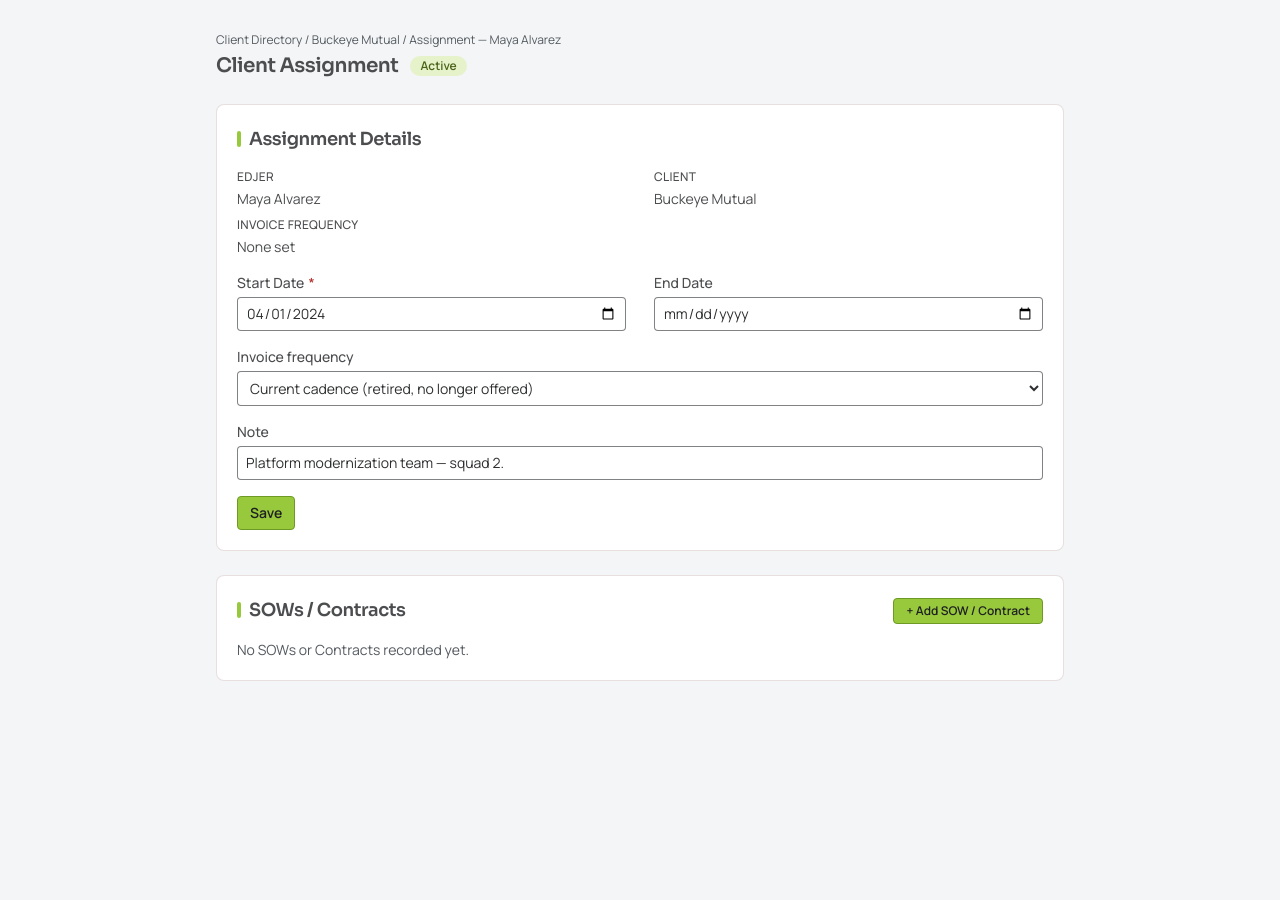
Test case: AssignmentDetailPage › SOWs / Contracts (US3, #66) › closes the modal after a successful create
Click the button "+ Add SOW / Contract" at point(968, 610), box [894,598,1043,624]
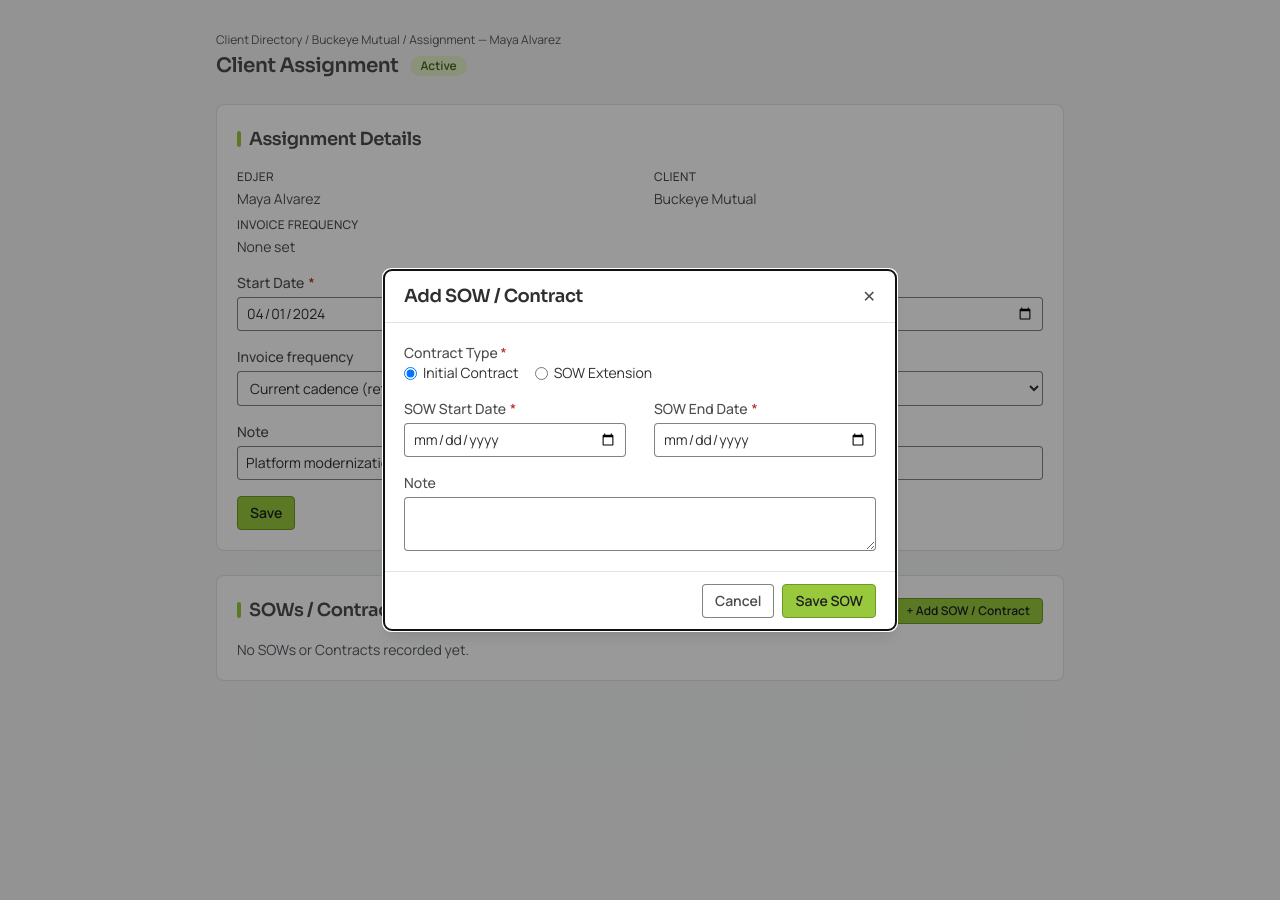
Click the radio button labelled "Initial Contract" at point(410, 373), box [404,366,417,380]
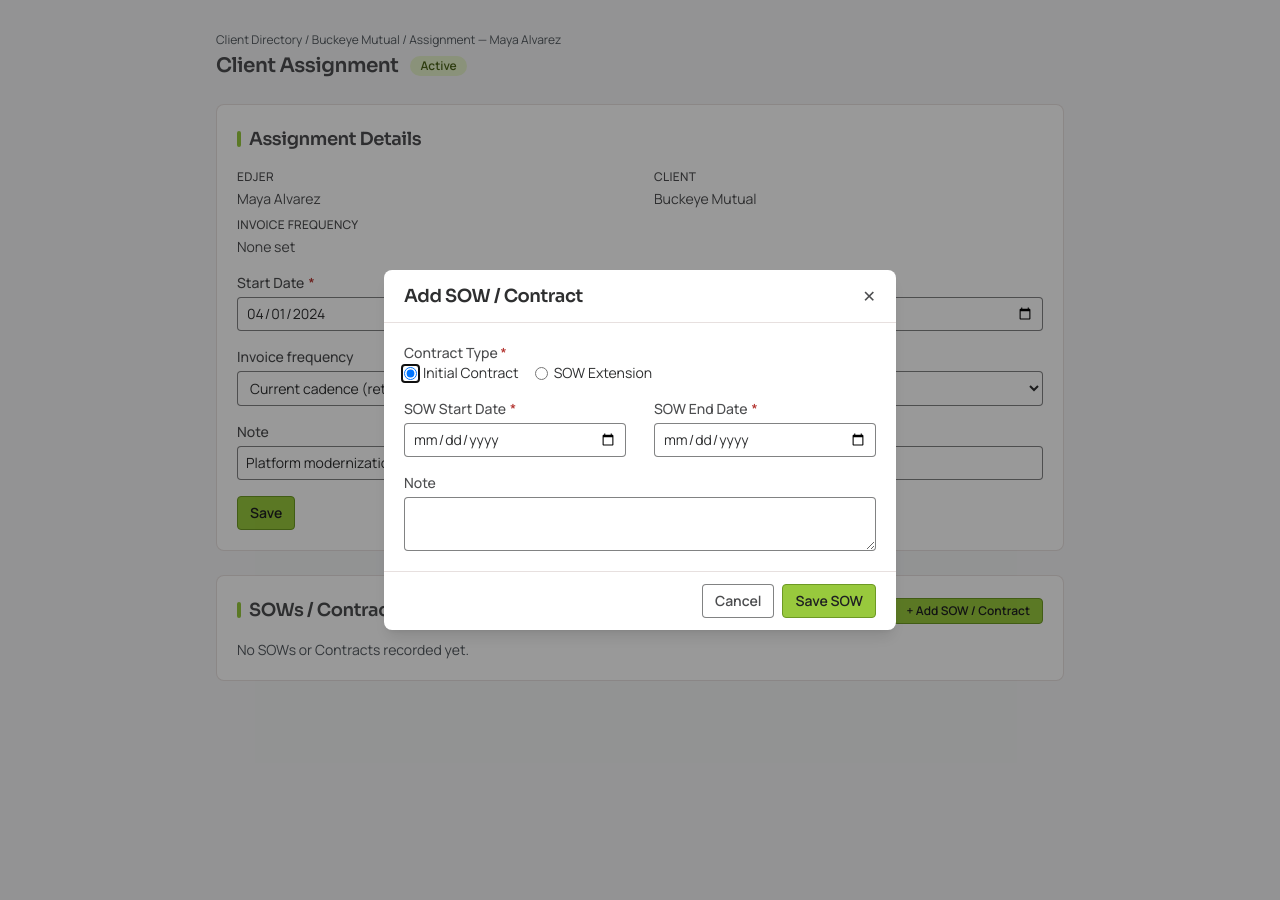
Type "2024-04-01" into the date field labelled "SOW Start Date*" at point(515, 440), box [404,423,626,457]
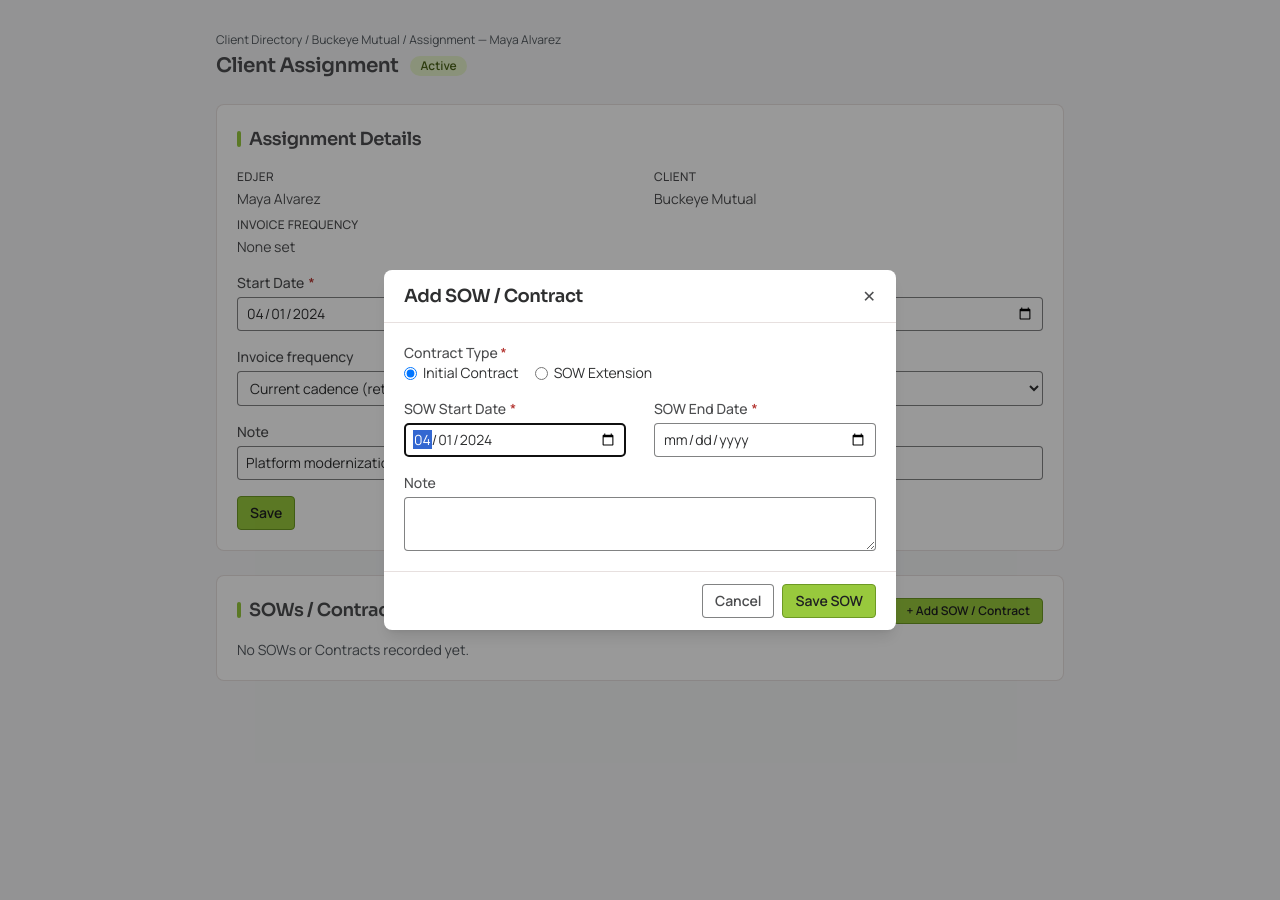
Type "2024-12-31" into the date field labelled "SOW End Date*" at point(765, 440), box [654,423,876,457]
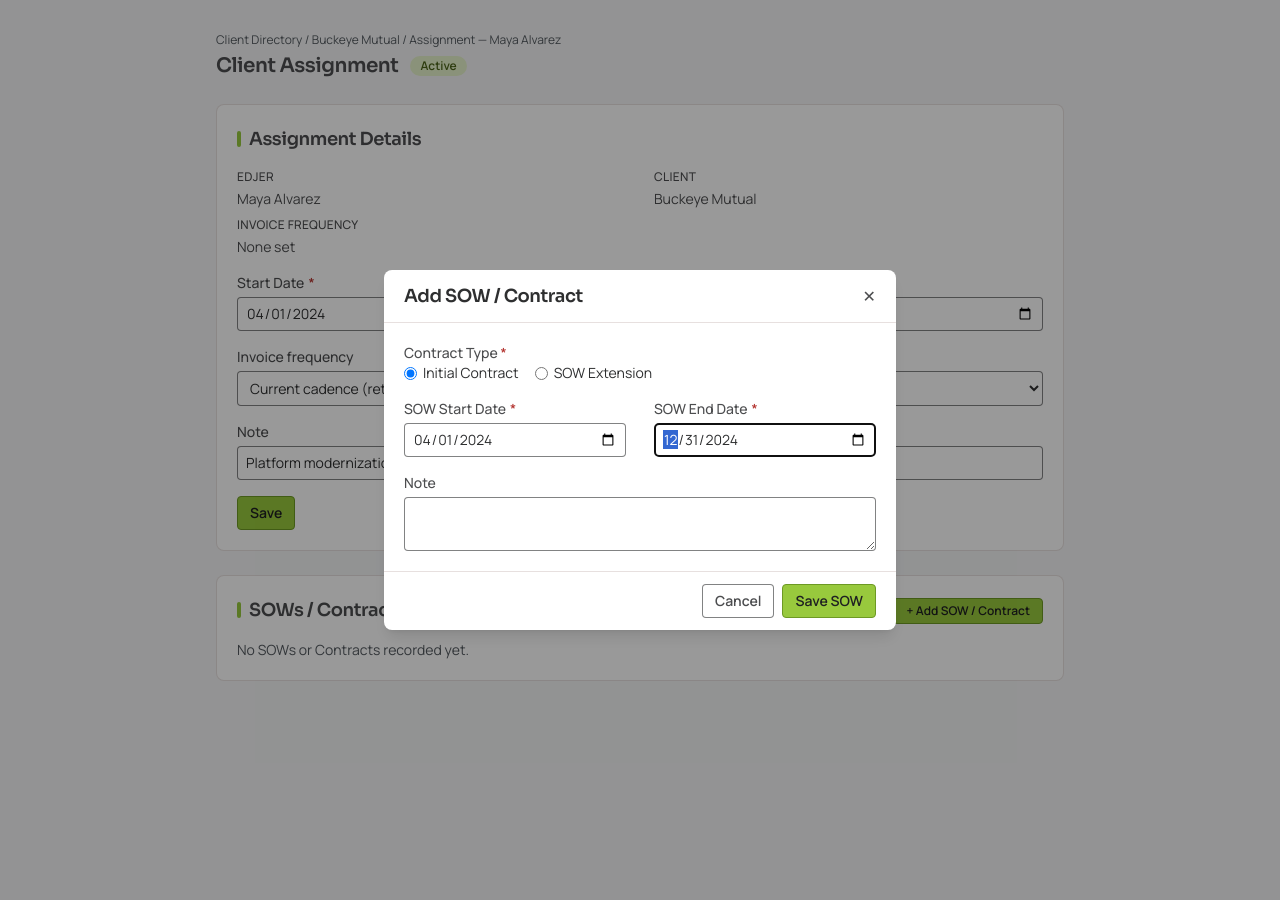
Click the button "Save SOW" at point(829, 601), box [782,584,876,618]
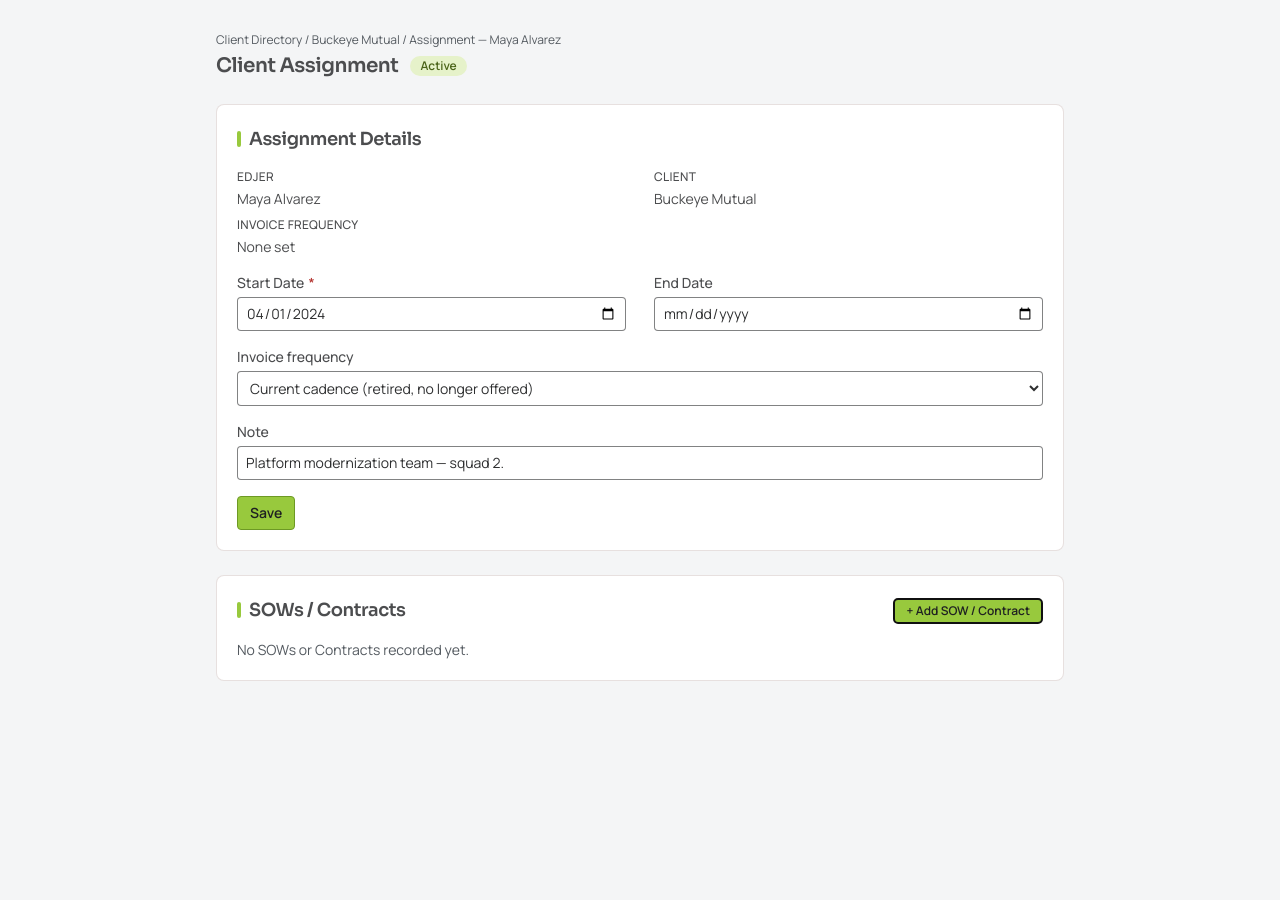
Now the dialog is gone
